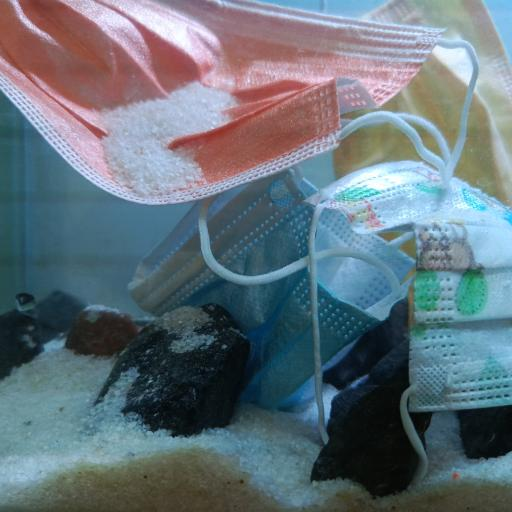mask: (1, 0, 480, 206), (125, 167, 418, 411), (306, 158, 512, 414), (332, 0, 512, 211)
